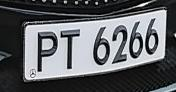2: (112, 21, 129, 67)
6: (92, 24, 111, 68), (144, 14, 159, 59), (129, 19, 144, 62)
P: (32, 26, 60, 76)
T: (56, 26, 86, 73)
